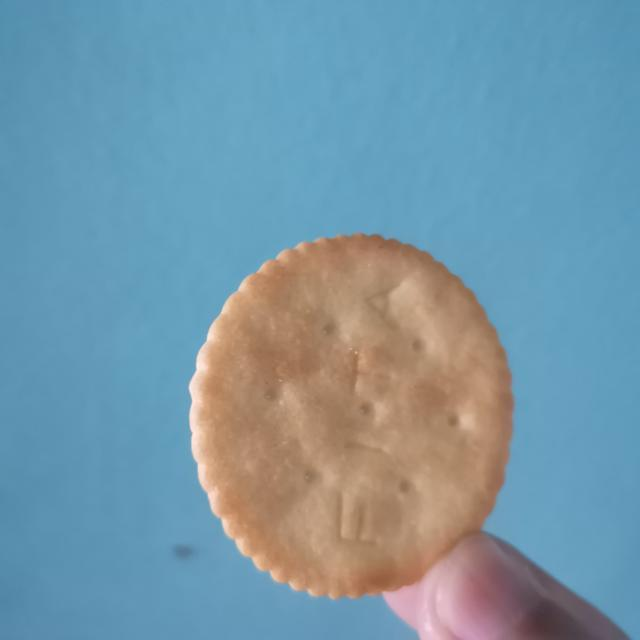Intact: (181, 227, 520, 611)
